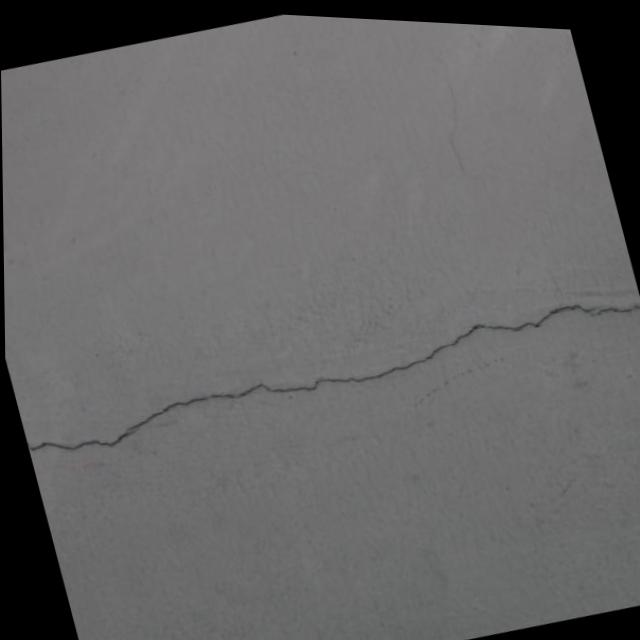Crack: (8, 224, 640, 501)
